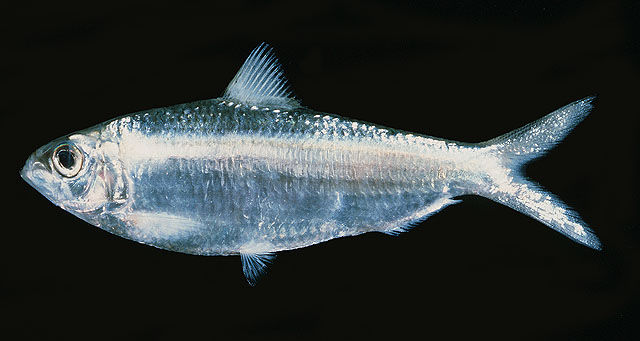fish: (19, 42, 602, 288)
